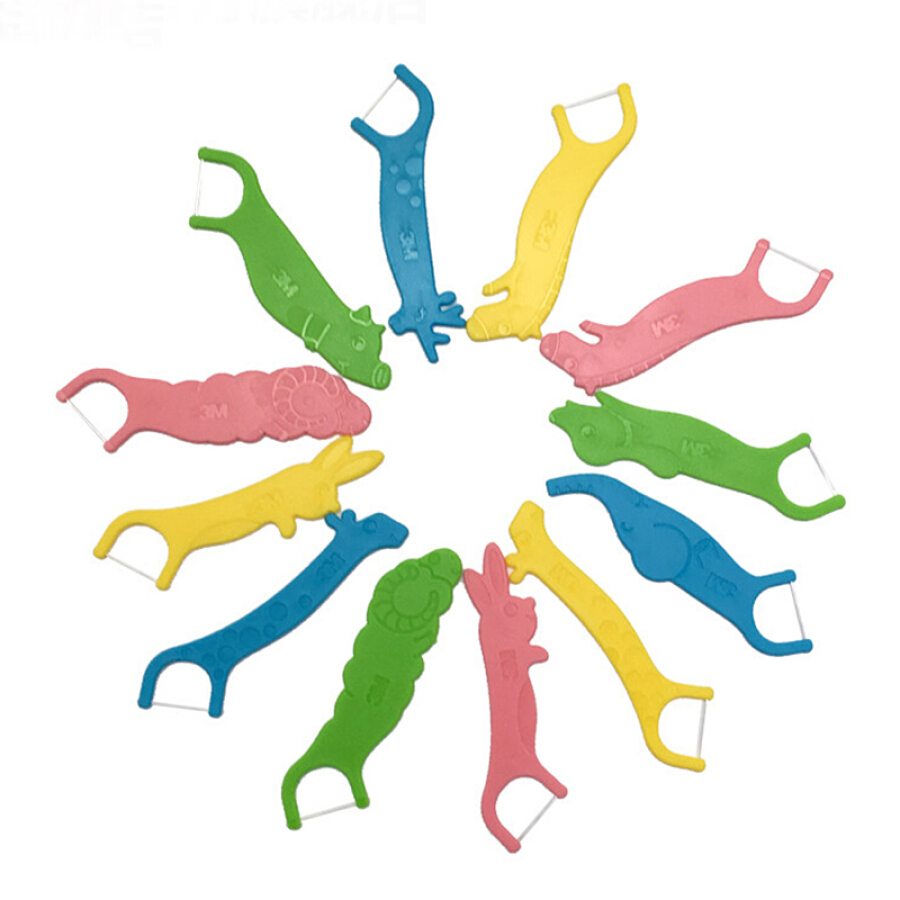3M: (532, 198, 563, 268), (241, 489, 294, 527), (366, 659, 393, 722), (269, 258, 304, 302), (314, 544, 348, 589), (496, 642, 524, 693), (704, 567, 742, 604), (679, 435, 719, 469), (549, 558, 582, 598), (396, 225, 425, 270), (644, 309, 686, 340), (191, 397, 236, 422)
